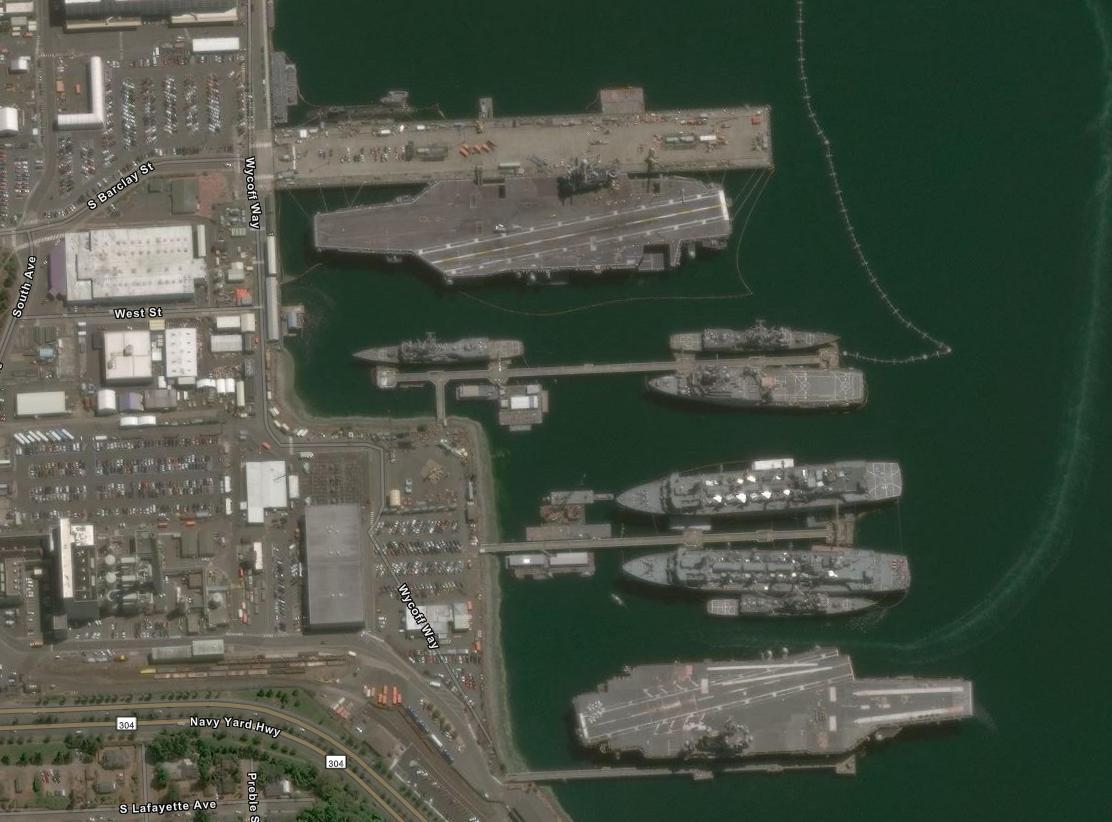carrier: (303, 158, 750, 293), (573, 641, 995, 778)
tender: (614, 447, 913, 522), (618, 534, 925, 601)
